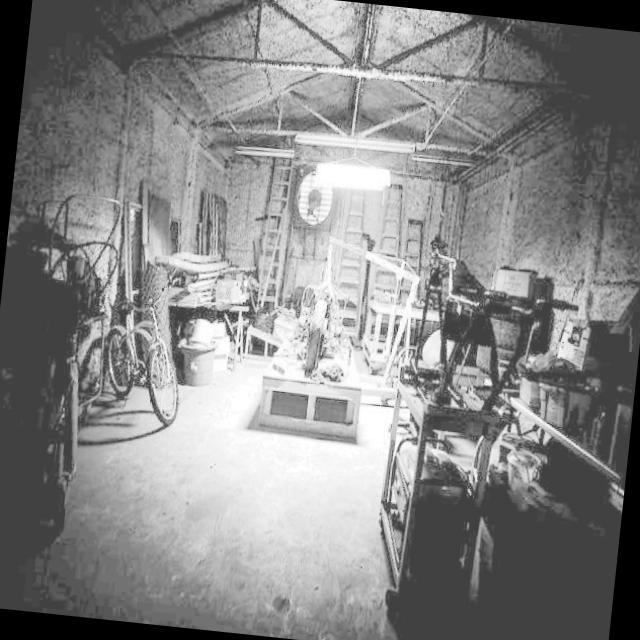Bicycle: (427, 246, 590, 610), (372, 272, 504, 599), (34, 276, 193, 446)
